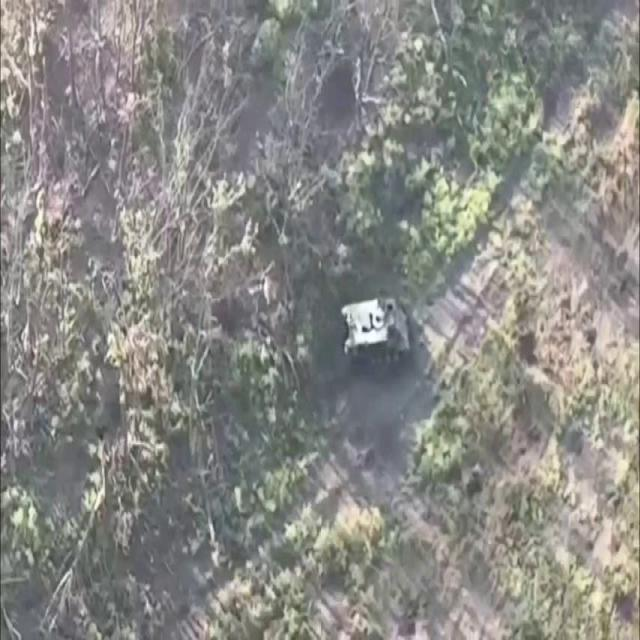APC: (341, 296, 412, 372)
